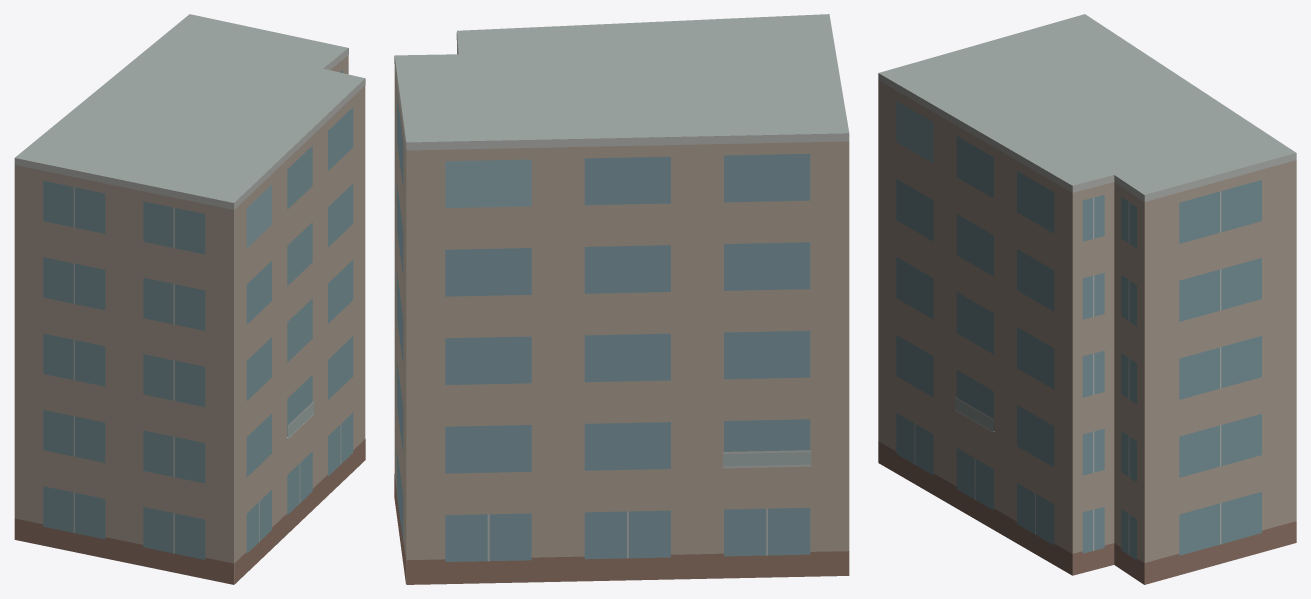
The model's file is survey-upis-32887388.glb.
The picture shows the model from 3 angles, left to right: view 1: azimuth 30°, elevation 25°; view 2: azimuth 150°, elevation 25°; view 3: azimuth 270°, elevation 25°; orthographic projection. The views are drawn at different scales.
Visible parts, largest first — view 1: survey-upis-32887388.tmp; view 2: survey-upis-32887388.tmp; view 3: survey-upis-32887388.tmp.
Part boxes in pixels (left/top/right/bottom): survey-upis-32887388.tmp: left=14, top=14, right=365, bottom=584; survey-upis-32887388.tmp: left=394, top=14, right=849, bottom=584; survey-upis-32887388.tmp: left=878, top=14, right=1296, bottom=584.
Bounding box in the file's own units: 13.4 × 13.45 × 13.09.
